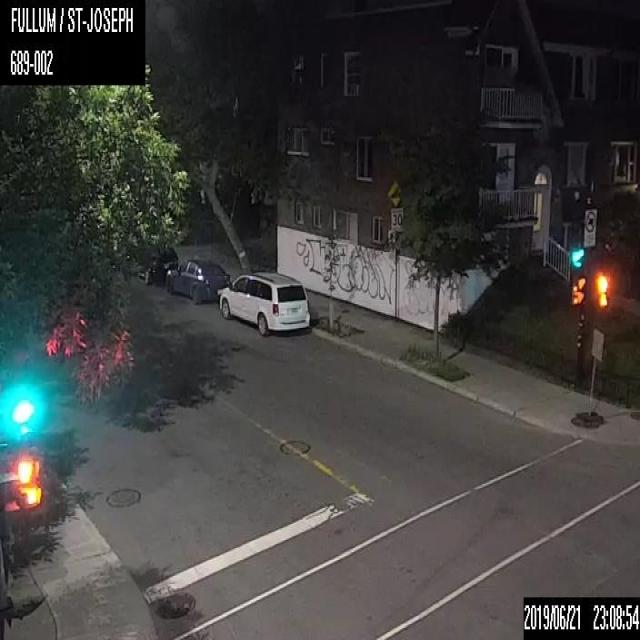construction: (569, 327, 605, 427)
vehicle: (217, 271, 309, 336), (166, 258, 230, 304), (122, 247, 178, 284)
